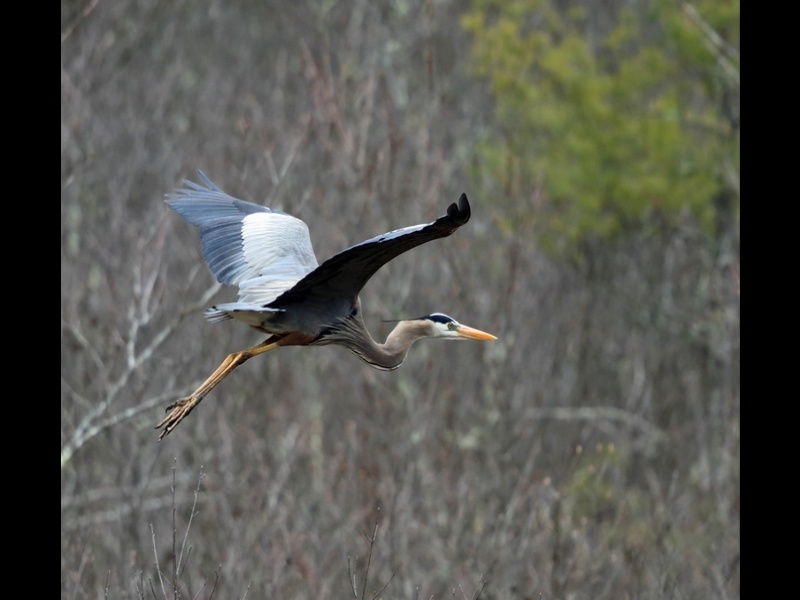heron: (155, 177, 503, 444)
